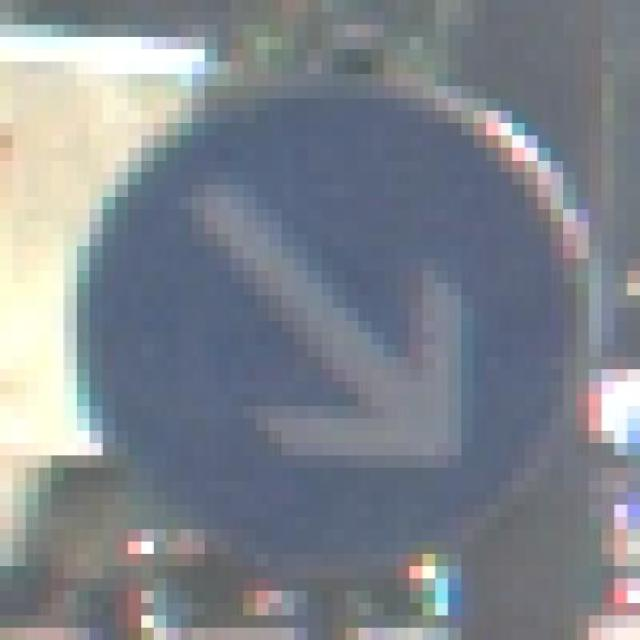Keep-Right: (38, 62, 614, 566)
